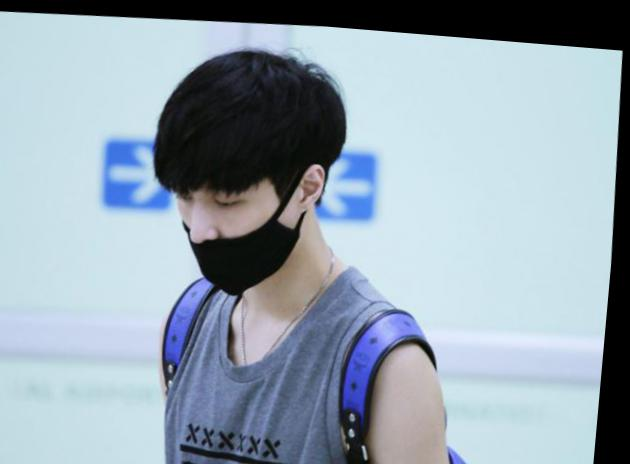WRONG: (170, 155, 296, 294)
